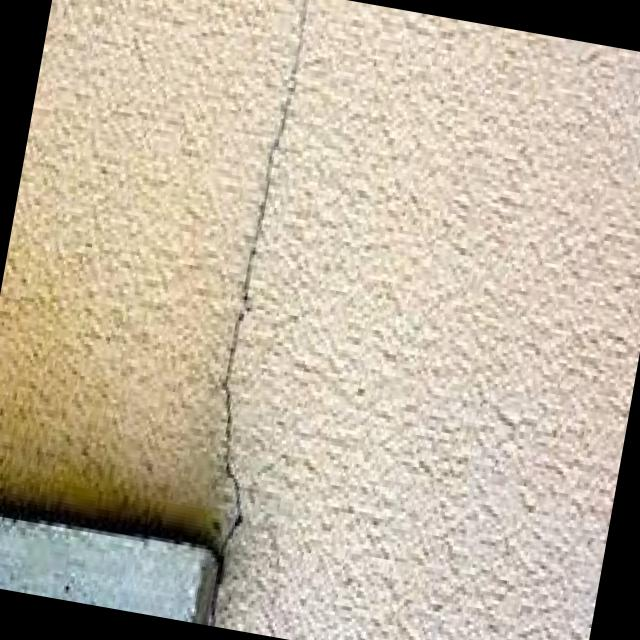crack: (211, 0, 310, 623)
